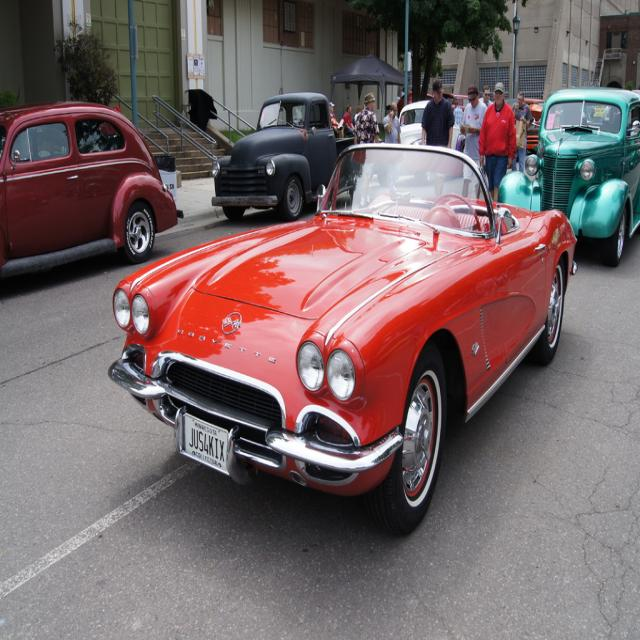car: (109, 136, 571, 540)
